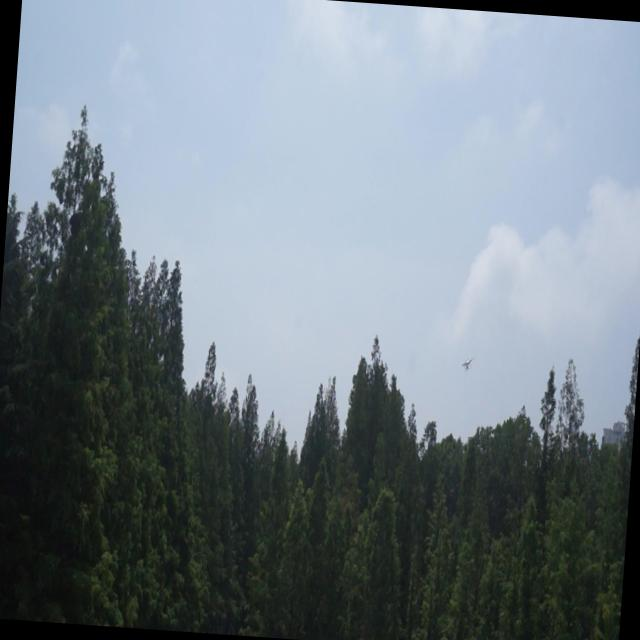drone: (459, 353, 475, 375)
